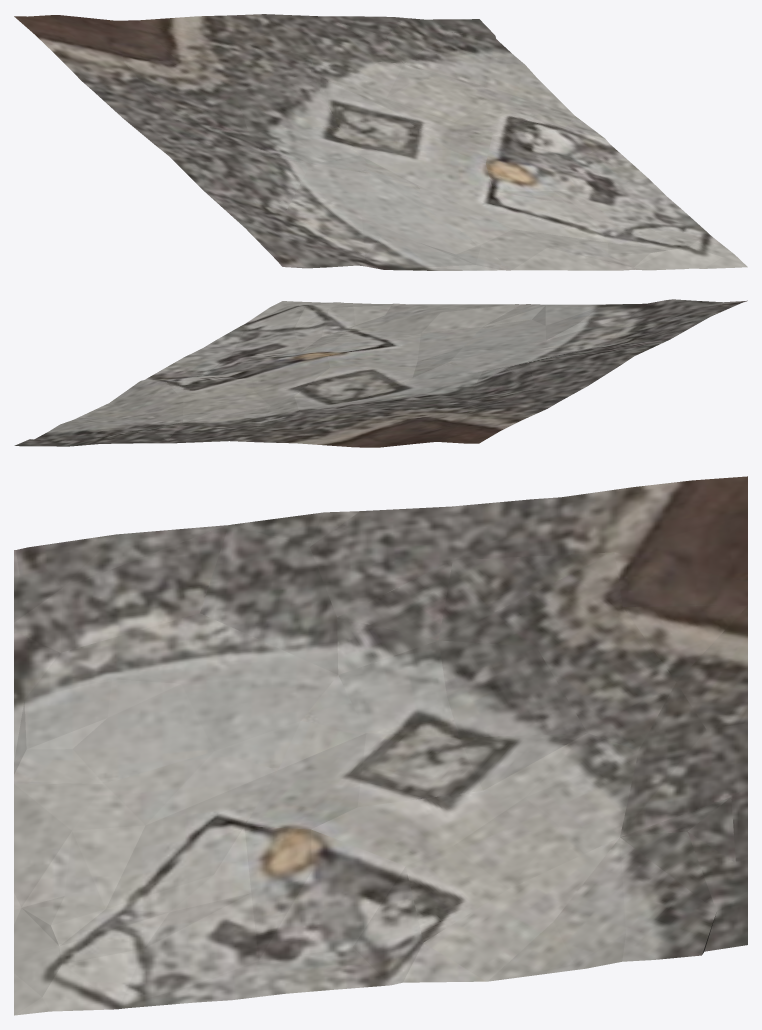
The picture shows the model from 3 angles, top to bottom: view 1: azimuth 30°, elevation 25°; view 2: azimuth 150°, elevation 25°; view 3: azimuth 270°, elevation 25°; orthographic projection. The views are drawn at different scales.
Bounding box in the file's own units: 0.8374 × 0.2882 × 0.8374.
Materials: 3 (3 with a texture image).
